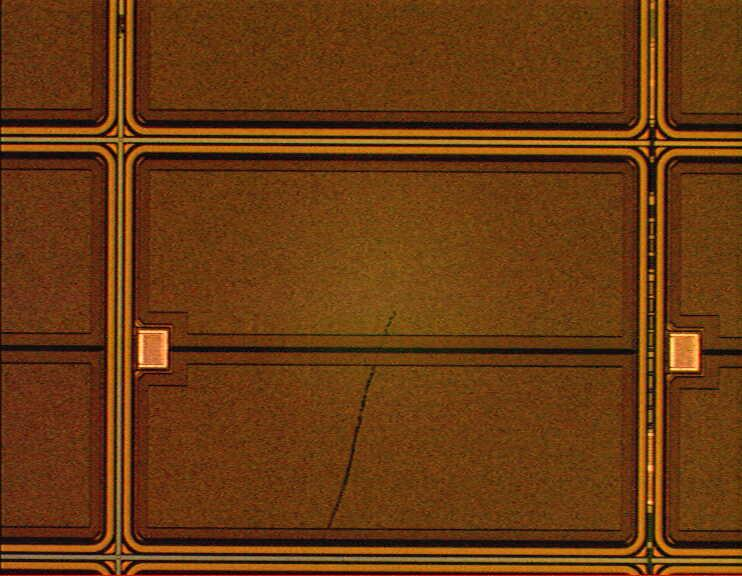SCRATCH: (318, 303, 407, 538)
